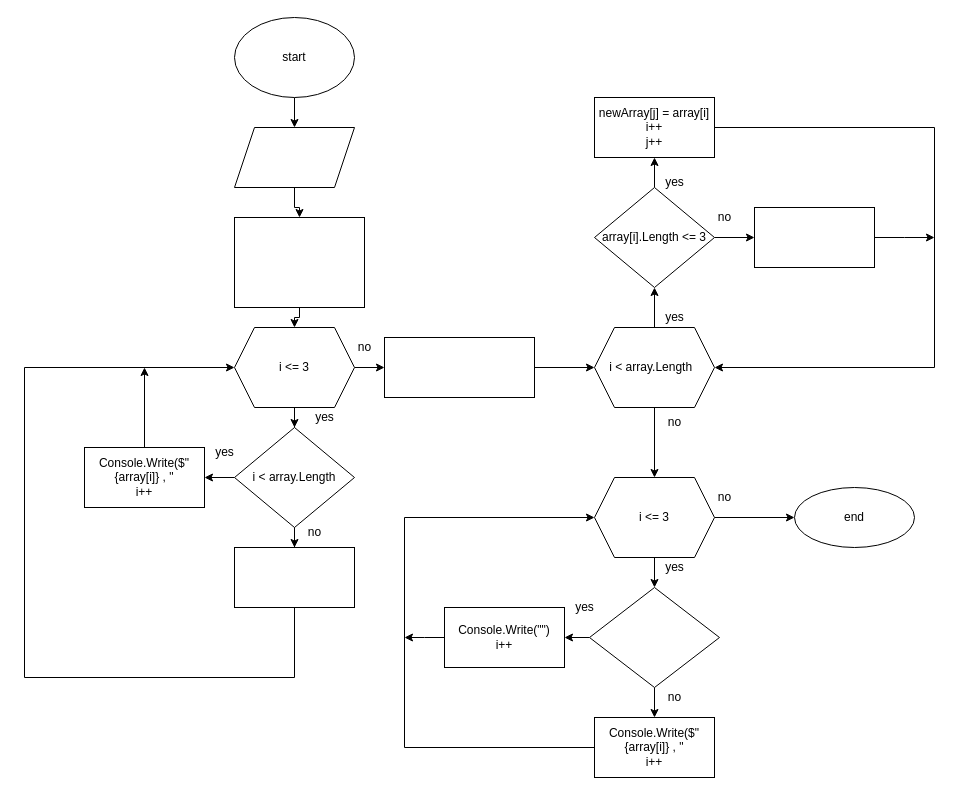
This 960x795 diagram has some shape labels left out. The box of each missing label's shape, as (x1, y1, x2, y2) in pixels:
a, b, c, d: (234, 126, 354, 188)
array[0] = a array[1] = b array[2] = c array[3] = d i = 0 array = new string[4]: (234, 216, 364, 308)
array[i] == null: (588, 586, 720, 688)
Console.Write($"{array[i]} " i++: (234, 546, 354, 608)
newArray = new string[4] j = 0 i = 0: (384, 336, 534, 398)
newArray[j] = null i++: (754, 206, 874, 268)
